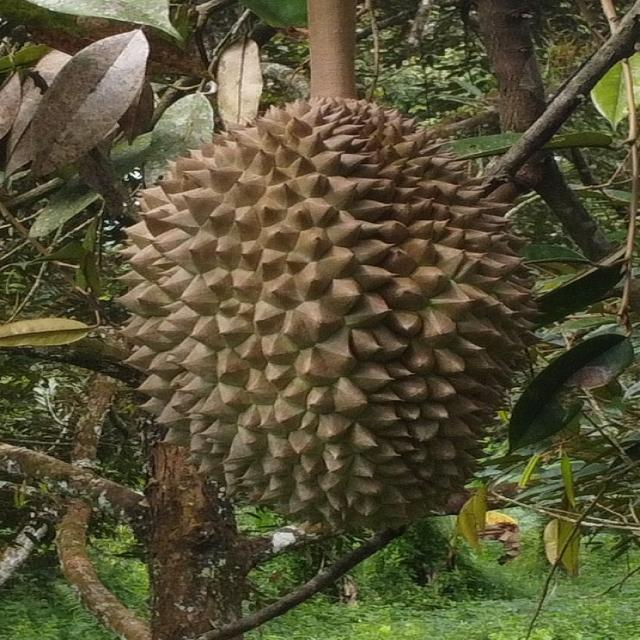mature: (117, 93, 543, 534)
